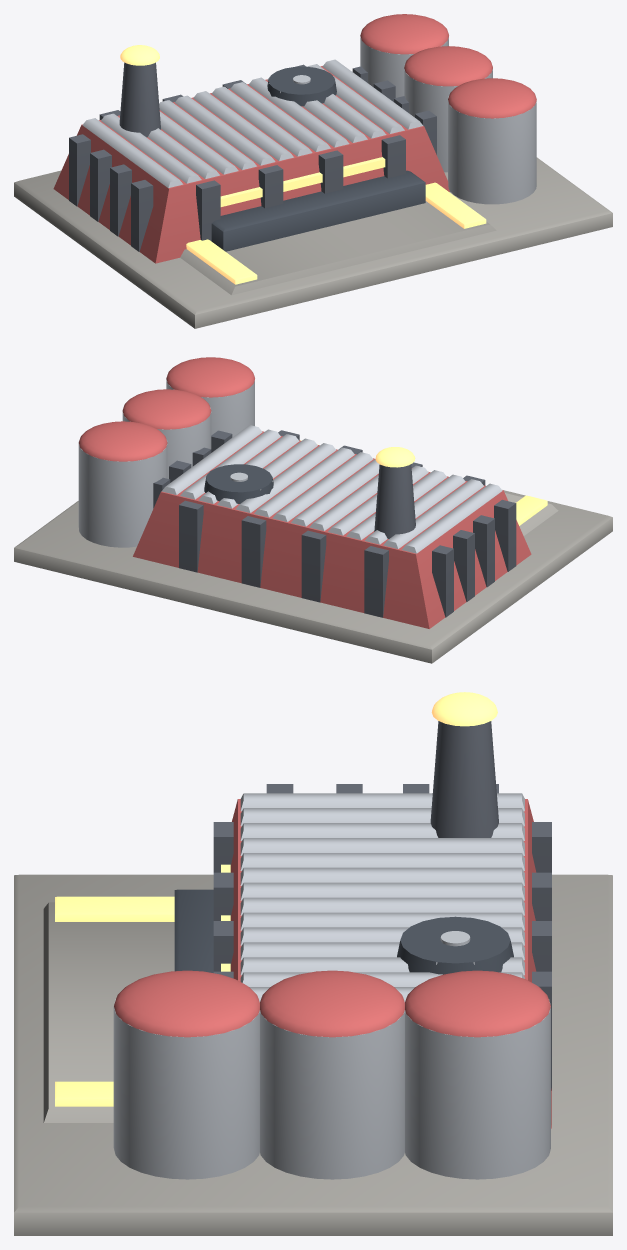
Rendered from narefn.glb.
3 views of the same model, one above another, from view 1: azimuth 30°, elevation 25°; view 2: azimuth 150°, elevation 25°; view 3: azimuth 270°, elevation 25° (orthographic). The views are drawn at different scales.
Visible parts, largest first — view 1: Hull; view 2: Hull; view 3: Hull.
Part boxes in pixels (box(x1,y1,x2,y2)): Hull: box(14, 14, 612, 328); Hull: box(14, 357, 612, 663); Hull: box(14, 692, 612, 1235).
Size of the model in its own units: 6.84 by 2.52 by 5.13.
